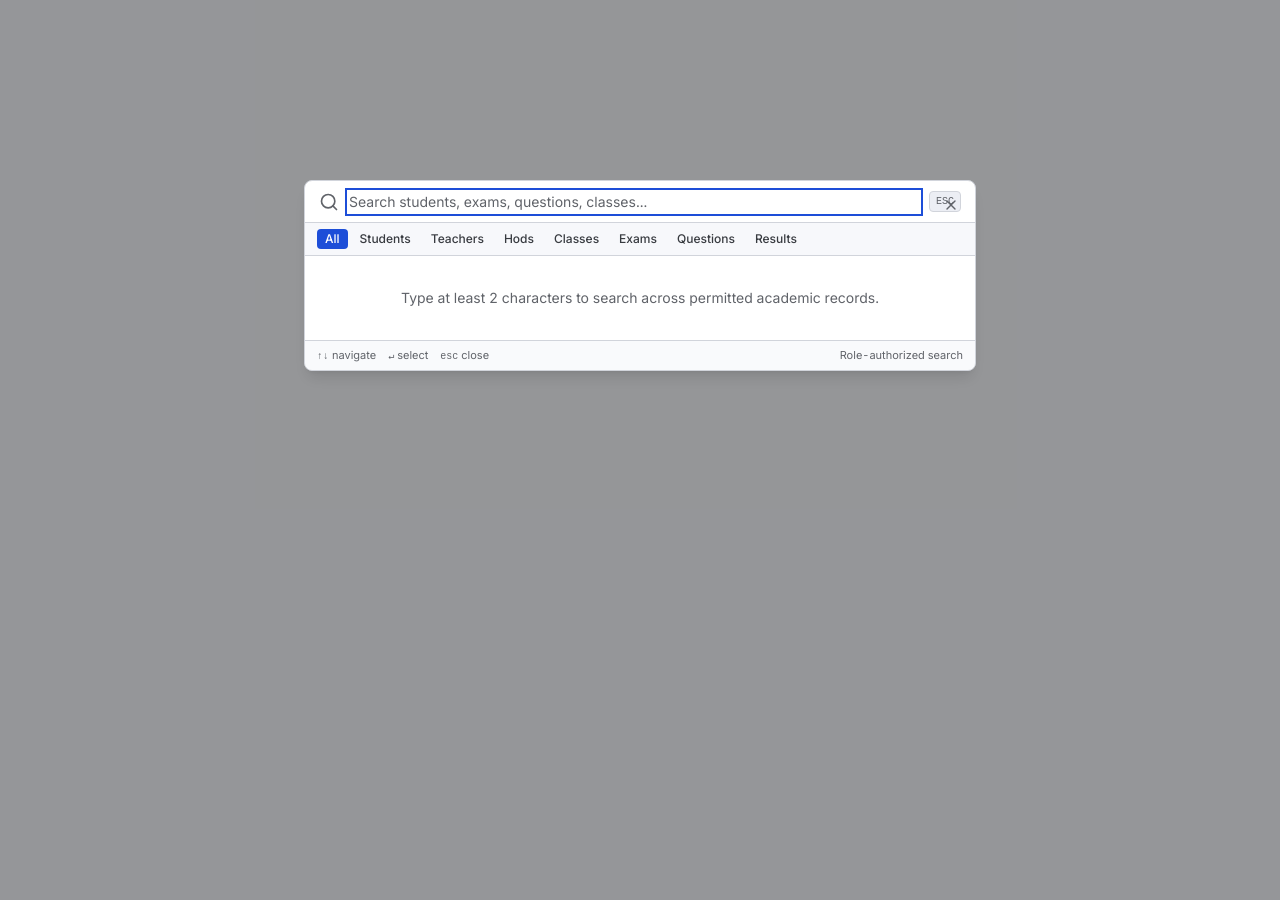
Test: SearchDialog › queries backend and renders grouped results by corpus
This screenshot has width=1280, height=900.
Step 1. Type "Mat" into the field named "Global search input" → (634, 202), box [349, 192, 919, 212]
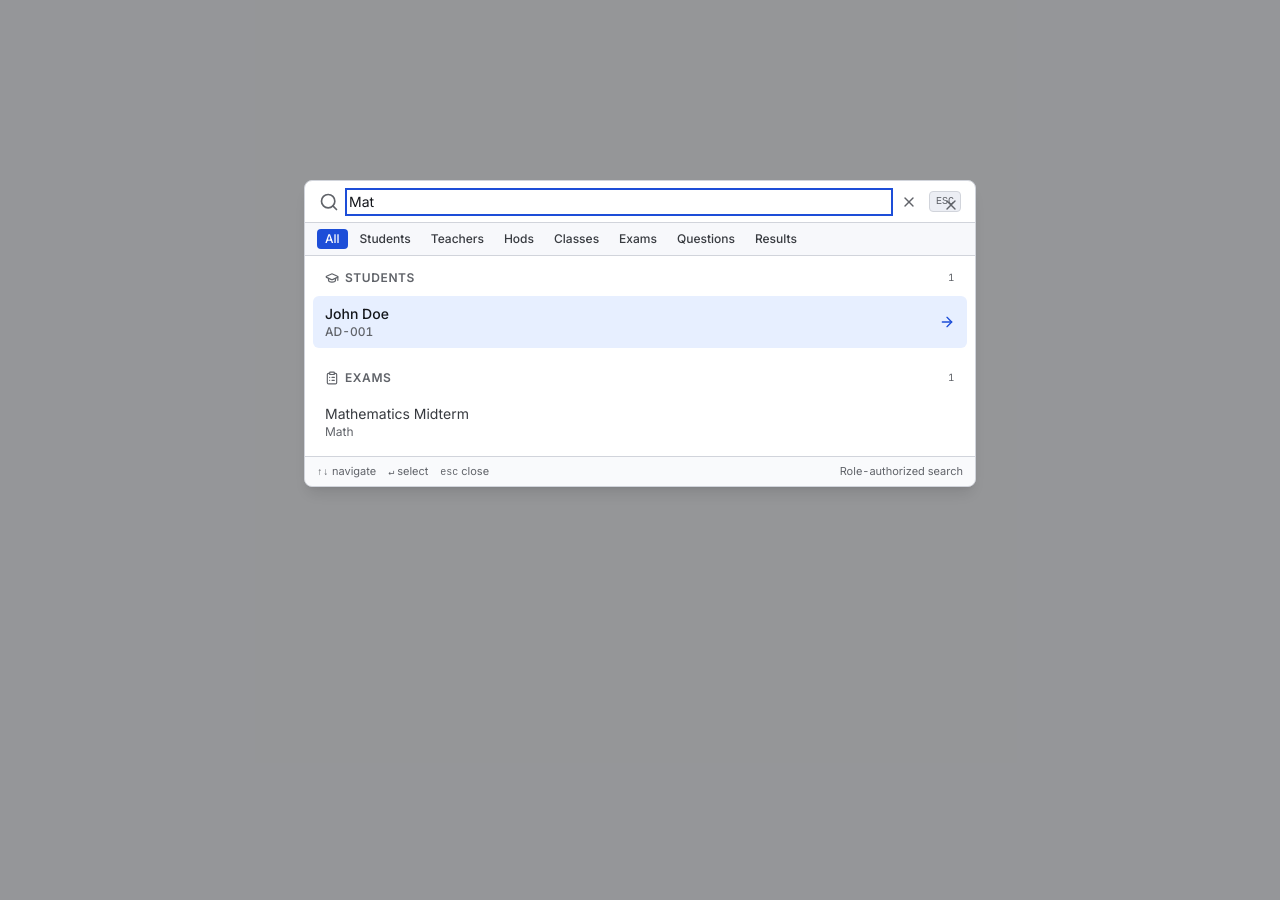
Expected: the text "John Doe" is shown, [325, 304, 389, 324]
Expected: the text "Mathematics Midterm" is shown, [325, 404, 469, 424]
Expected: the text "Students" is shown, [345, 270, 415, 286]
